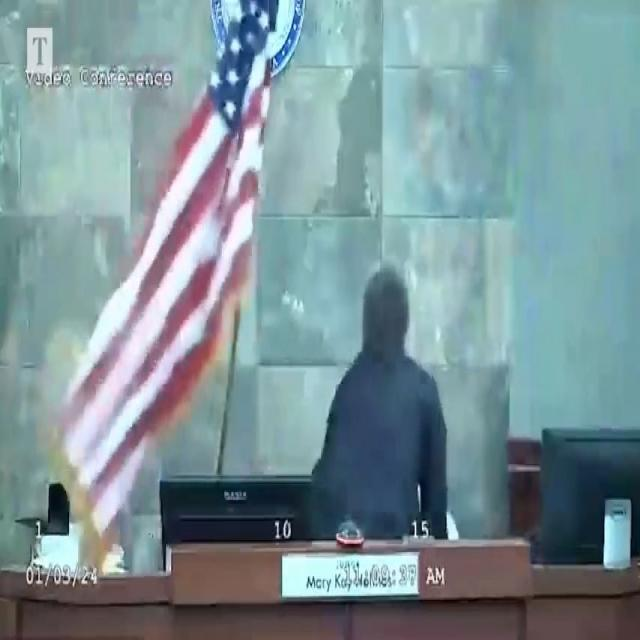non-fight: (304, 252, 452, 539)
